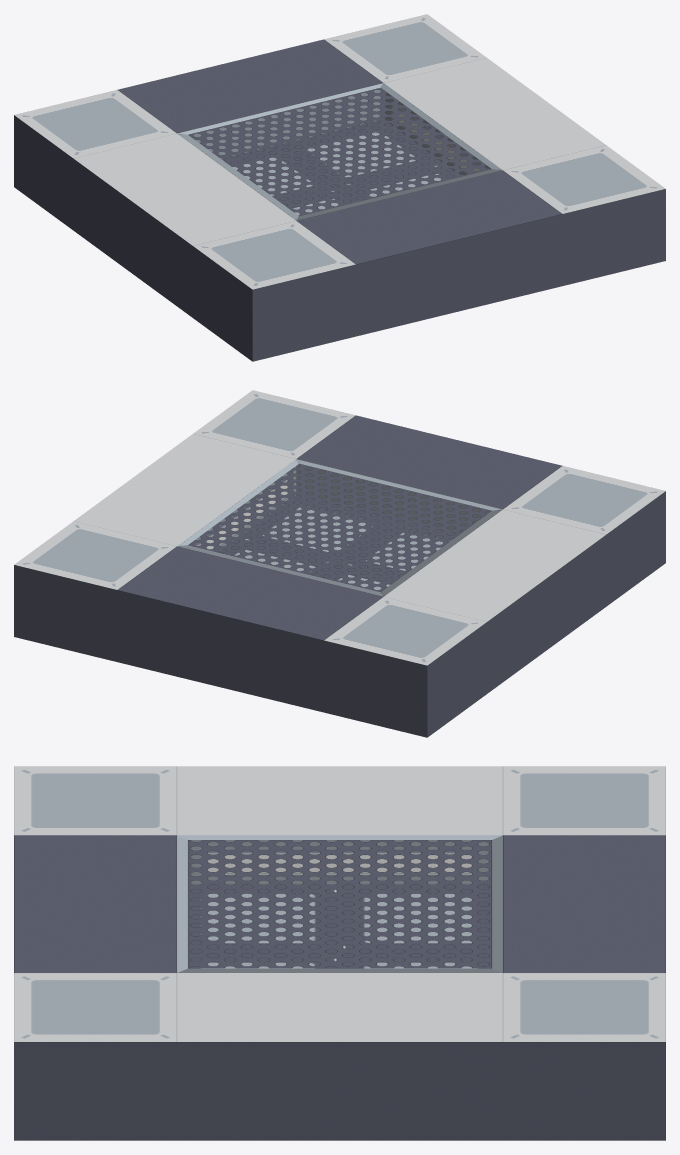
File: Floor_04.FBX
3 renders of one model, top to bottom at view 1: azimuth 30°, elevation 25°; view 2: azimuth 150°, elevation 25°; view 3: azimuth 270°, elevation 25°, orthographic. The views are drawn at different scales.
Parts seen in each view (by area): view 1: Floor_04; view 2: Floor_04; view 3: Floor_04.
Part boxes in pixels (left/top/right/bottom): Floor_04: left=14, top=14, right=665, bottom=361; Floor_04: left=14, top=390, right=665, bottom=737; Floor_04: left=14, top=766, right=665, bottom=1140.
Bounding box in the file's own units: 6 × 1 × 6.
Materials: 3 (3 with a texture image).
